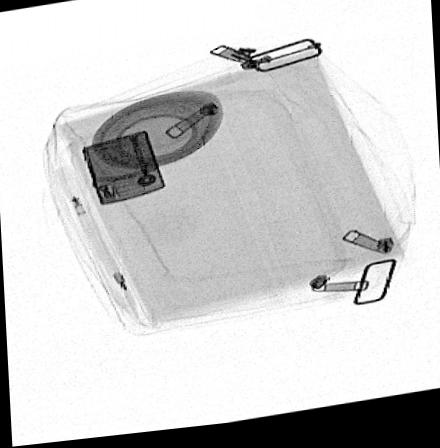Lighter: (81, 132, 165, 206)
